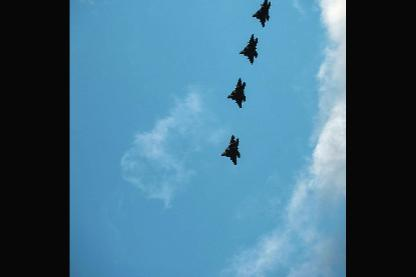F18: (221, 134, 240, 165), (252, 0, 271, 28), (228, 79, 246, 108), (240, 35, 258, 64)
